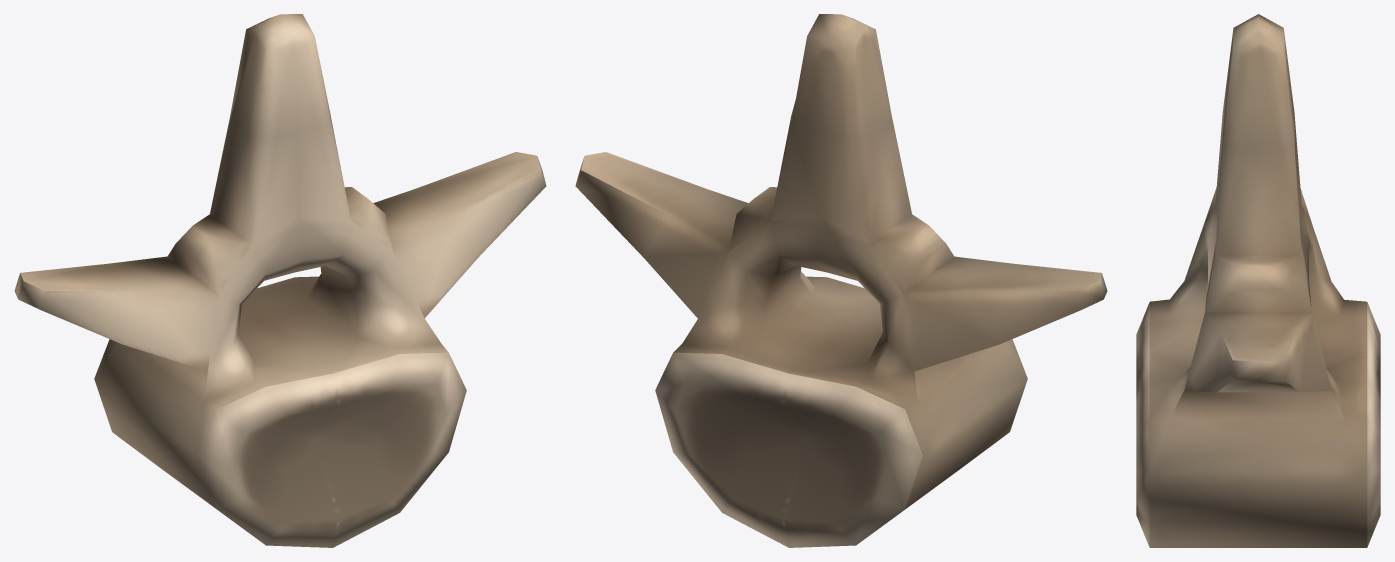
The model's file is DE_Vertebrae_01.fbx.
3 renders of one model, left to right at view 1: azimuth 30°, elevation 25°; view 2: azimuth 150°, elevation 25°; view 3: azimuth 270°, elevation 25°, orthographic. The views are drawn at different scales.
Visible parts, largest first — view 1: DE_Vertebrae_01; view 2: DE_Vertebrae_01; view 3: DE_Vertebrae_01.
Part boxes in pixels (bbox=[...]): DE_Vertebrae_01: bbox=[14, 14, 546, 547]; DE_Vertebrae_01: bbox=[575, 14, 1107, 547]; DE_Vertebrae_01: bbox=[1136, 14, 1380, 547].
Bounding box in the file's own units: 0.7147 × 0.645 × 0.2781.
